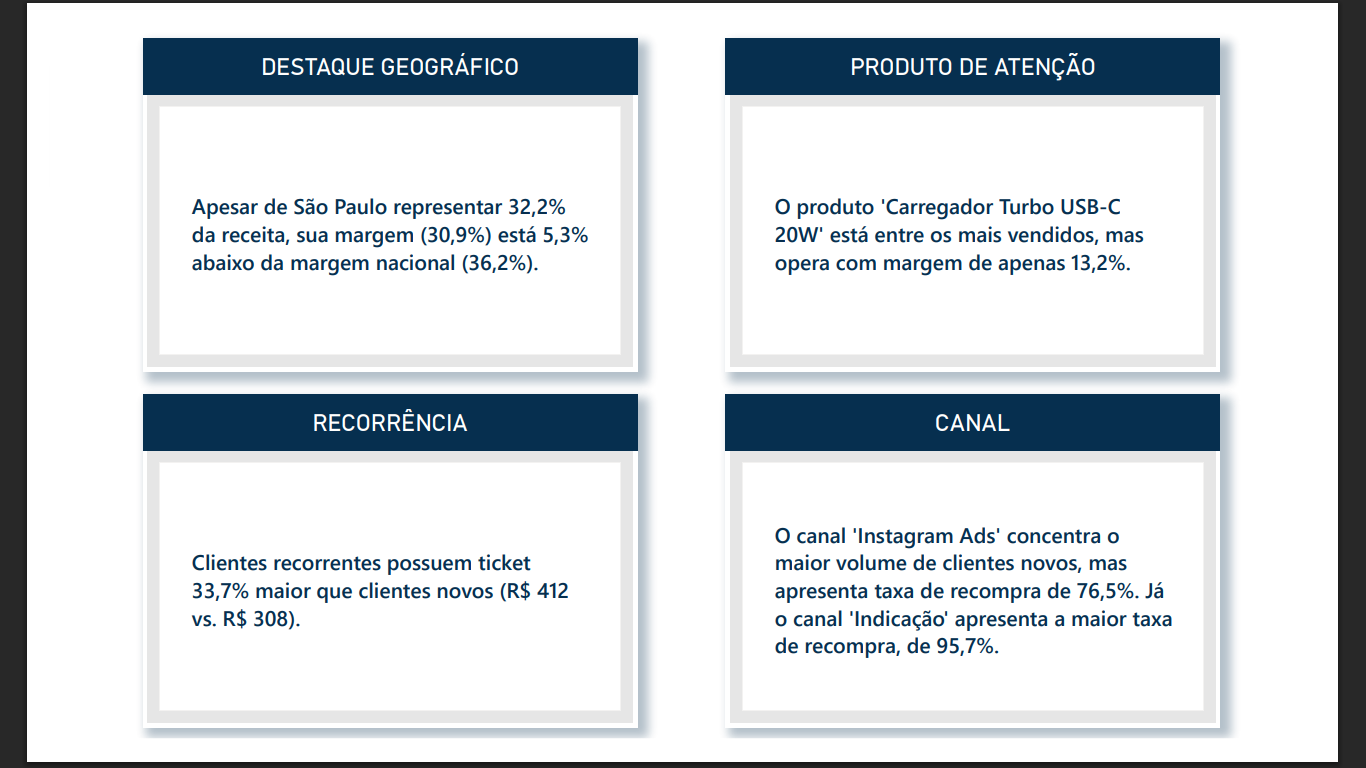

The dashboard page shown, as its layout file describes it:
{"tool":"powerbi","page":{"name":"Insights","canvas":[1280,720],"ordinal":5},"visuals":[{"type":"cardVisual","title":"DESTAQUE GEOGRÁFICO","fields":{"Data":["_Medidas.Texto Insight SP"]},"box":[93.7,11.5,501,337],"z":0,"group":"g1"},{"type":"cardVisual","title":"CANAL","fields":{"Data":["_Medidas.Texto Insight Canal"]},"box":[683.5,371.5,501,337],"z":1000,"group":"g1"},{"type":"group","id":"g1","title":"Grupo 1","box":[93.7,11.5,1090.8,697],"z":2000},{"type":"cardVisual","title":"RECORRÊNCIA","fields":{"Data":["_Medidas.Texto Insight Recorrencia"]},"box":[93.7,371.5,501,337],"z":2000,"group":"g1"},{"type":"cardVisual","title":"PRODUTO DE ATENÇÃO","fields":{"Data":["_Medidas.Texto Insight Produto Isca"]},"box":[683.5,11.5,501,337],"z":3000,"group":"g1"}]}

Visuals, with their boxes in screenshot pixels (x1, y1, x2, y2), scaled from the page's 1280x720 canvas onto the 1366x768 screenshot:
"DESTAQUE GEOGRÁFICO" cardVisual: region(100, 12, 635, 372)
"CANAL" cardVisual: region(729, 396, 1264, 756)
"Grupo 1" group: region(100, 12, 1264, 756)
"RECORRÊNCIA" cardVisual: region(100, 396, 635, 756)
"PRODUTO DE ATENÇÃO" cardVisual: region(729, 12, 1264, 372)
